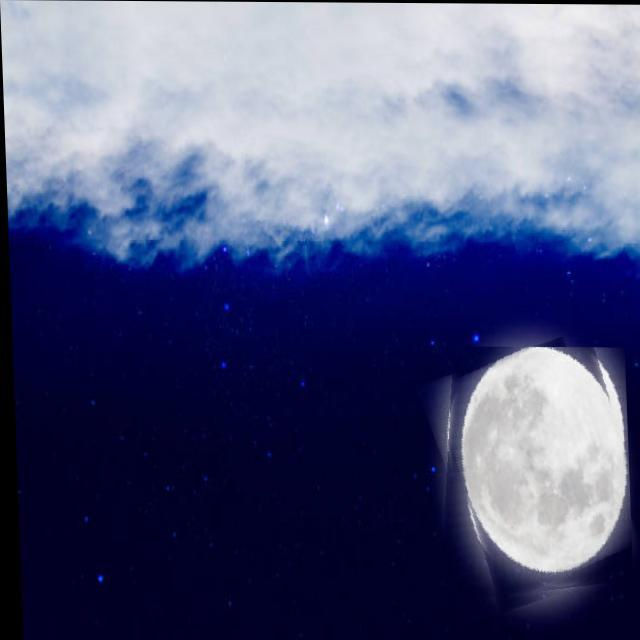moon: (428, 346, 629, 604)
